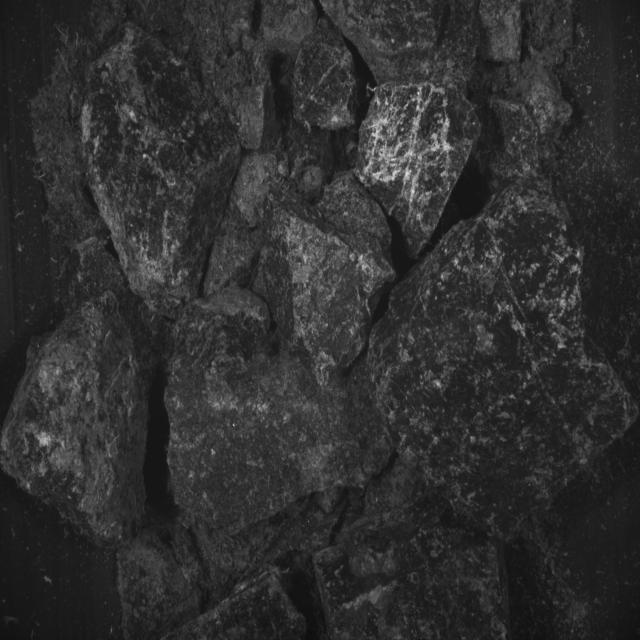Stones: (369, 178, 639, 533), (166, 289, 390, 533), (82, 26, 241, 317), (1, 294, 149, 547), (254, 172, 396, 381), (315, 499, 510, 640), (356, 83, 481, 257), (324, 1, 479, 91), (167, 567, 307, 640), (295, 18, 357, 131)
